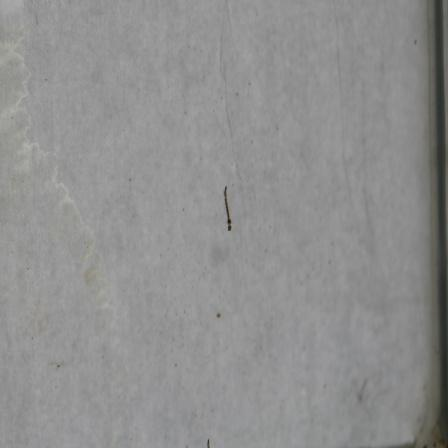Jentik-Nyamuk: (219, 180, 237, 238)
